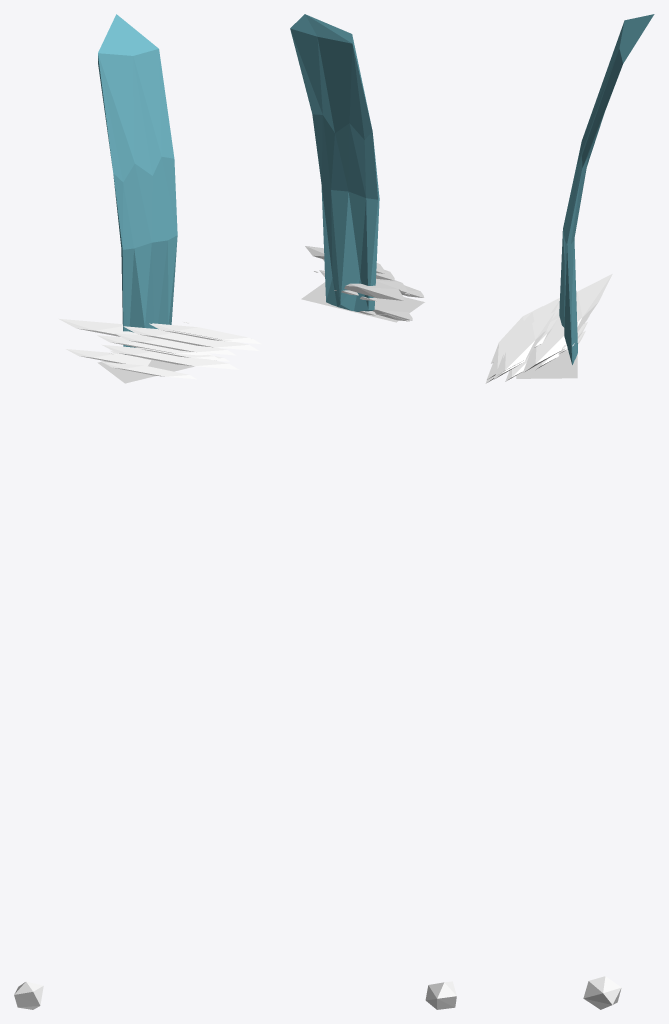
Rendered from waterFall.fbx.
The picture shows the model from 3 angles, left to right: view 1: azimuth 30°, elevation 25°; view 2: azimuth 150°, elevation 25°; view 3: azimuth 270°, elevation 25°; orthographic projection. The views are drawn at different scales.
Visible parts, largest first — view 1: waterFall, foamEmmiter|foam|Dupli|1922.0.0.0.0.0.0.0.0.0, foamEmmiter|foam|Dupli|1912.0.0.0.0.0.0.0.0.0, foamEmmiter|foam|Dupli|1915.0.0.0.0.0.0.0.0.0, foamEmmiter, foamEmmiter|foam|Dupli|1910.0.0.0.0.0.0.0.0.0, foamEmmiter|foam|Dupli|1927.0.0.0.0.0.0.0.0.0, foamEmmiter|foam|Dupli|1914.0.0.0.0.0.0.0.0.0, foam, foamEmmiter|foam|Dupli|1925.0.0.0.0.0.0.0.0.0; view 2: waterFall, foamEmmiter, foam, foamEmmiter|foam|Dupli|1914.0.0.0.0.0.0.0.0.0; view 3: waterFall, foamEmmiter|foam|Dupli|1914.0.0.0.0.0.0.0.0.0, foamEmmiter|foam|Dupli|1910.0.0.0.0.0.0.0.0.0, foamEmmiter, foam, foamEmmiter|foam|Dupli|1912.0.0.0.0.0.0.0.0.0.
Part boxes in pixels (x1=…): waterFall: x1=98, y1=14, x2=177, y2=354; foamEmmiter|foam|Dupli|1922.0.0.0.0.0.0.0.0.0: x1=101, y1=344, x2=238, y2=369; foamEmmiter|foam|Dupli|1912.0.0.0.0.0.0.0.0.0: x1=123, y1=326, x2=258, y2=350; foamEmmiter|foam|Dupli|1915.0.0.0.0.0.0.0.0.0: x1=114, y1=333, x2=236, y2=355; foamEmmiter: x1=97, y1=358, x2=216, y2=383; foamEmmiter|foam|Dupli|1910.0.0.0.0.0.0.0.0.0: x1=152, y1=323, x2=256, y2=342; foamEmmiter|foam|Dupli|1927.0.0.0.0.0.0.0.0.0: x1=66, y1=349, x2=183, y2=370; foamEmmiter|foam|Dupli|1914.0.0.0.0.0.0.0.0.0: x1=58, y1=318, x2=221, y2=348; foam: x1=14, y1=981, x2=43, y2=1009; foamEmmiter|foam|Dupli|1925.0.0.0.0.0.0.0.0.0: x1=102, y1=362, x2=196, y2=379; waterFall: x1=290, y1=14, x2=379, y2=311; foamEmmiter: x1=301, y1=282, x2=424, y2=322; foam: x1=425, y1=981, x2=456, y2=1009; foamEmmiter|foam|Dupli|1914.0.0.0.0.0.0.0.0.0: x1=319, y1=270, x2=404, y2=300; waterFall: x1=559, y1=14, x2=654, y2=364; foamEmmiter|foam|Dupli|1914.0.0.0.0.0.0.0.0.0: x1=523, y1=274, x2=612, y2=372; foamEmmiter|foam|Dupli|1910.0.0.0.0.0.0.0.0.0: x1=497, y1=312, x2=554, y2=375; foamEmmiter: x1=516, y1=350, x2=577, y2=378; foam: x1=583, y1=976, x2=621, y2=1009; foamEmmiter|foam|Dupli|1912.0.0.0.0.0.0.0.0.0: x1=486, y1=298, x2=559, y2=379.
Size of the model in its own units: 46.1 by 212 by 30.89.
